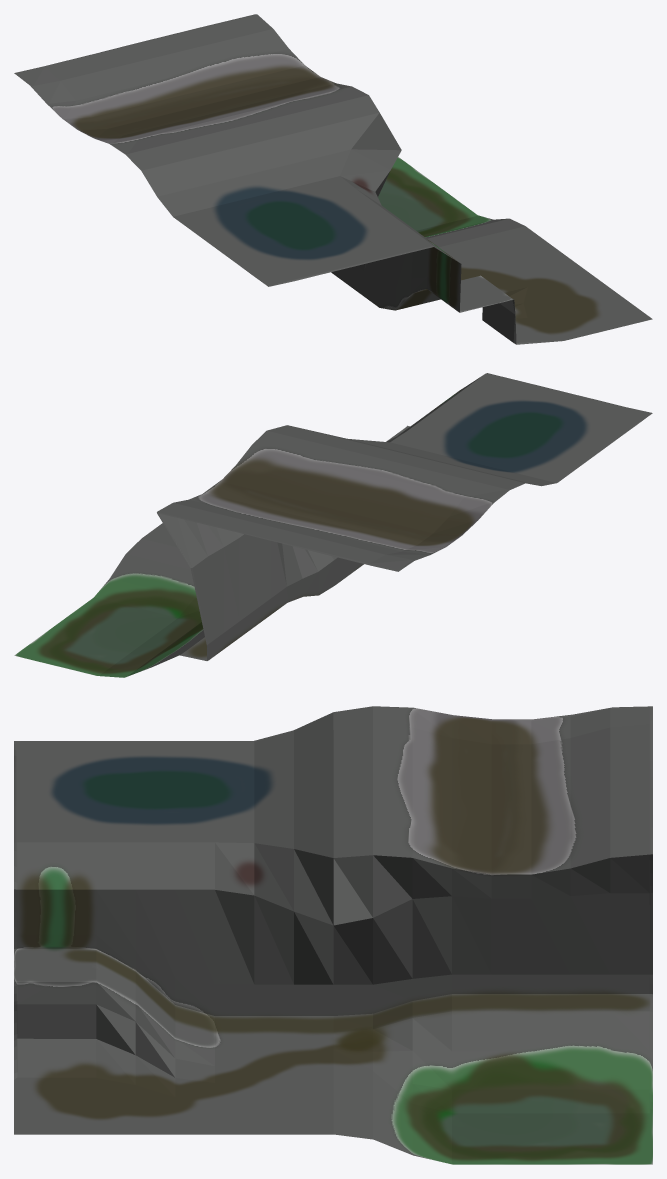
Rendered from CaveTestTextured.obj.
The picture shows the model from 3 angles, top to bottom: view 1: azimuth 30°, elevation 25°; view 2: azimuth 150°, elevation 25°; view 3: azimuth 270°, elevation 25°; orthographic projection. The views are drawn at different scales.
Parts seen in each view (by area): view 1: Plane_Plane.001; view 2: Plane_Plane.001; view 3: Plane_Plane.001.
Boxes of the visible parts, left/top/right/bottom form: Plane_Plane.001: left=14, top=14, right=652, bottom=344; Plane_Plane.001: left=14, top=373, right=652, bottom=677; Plane_Plane.001: left=14, top=706, right=652, bottom=1164.
Bounding box in the file's own units: 5.23 × 2.31 × 6.
1 material, 1 textured.
